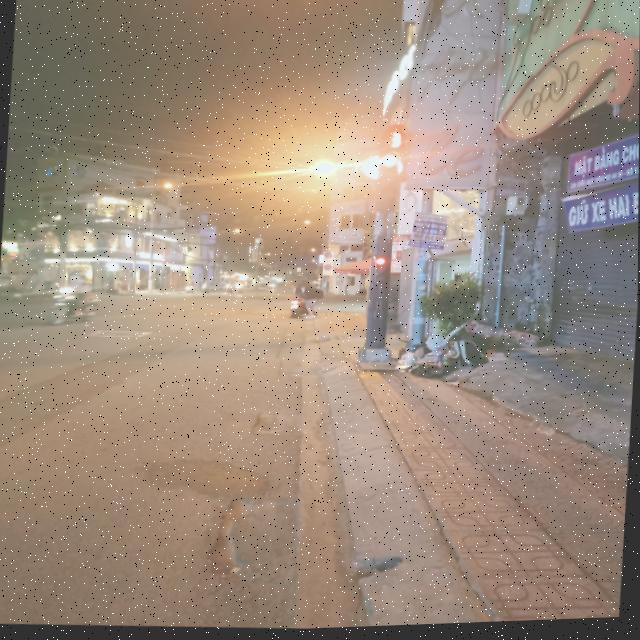Red: (375, 151, 404, 221), (372, 256, 394, 295)
